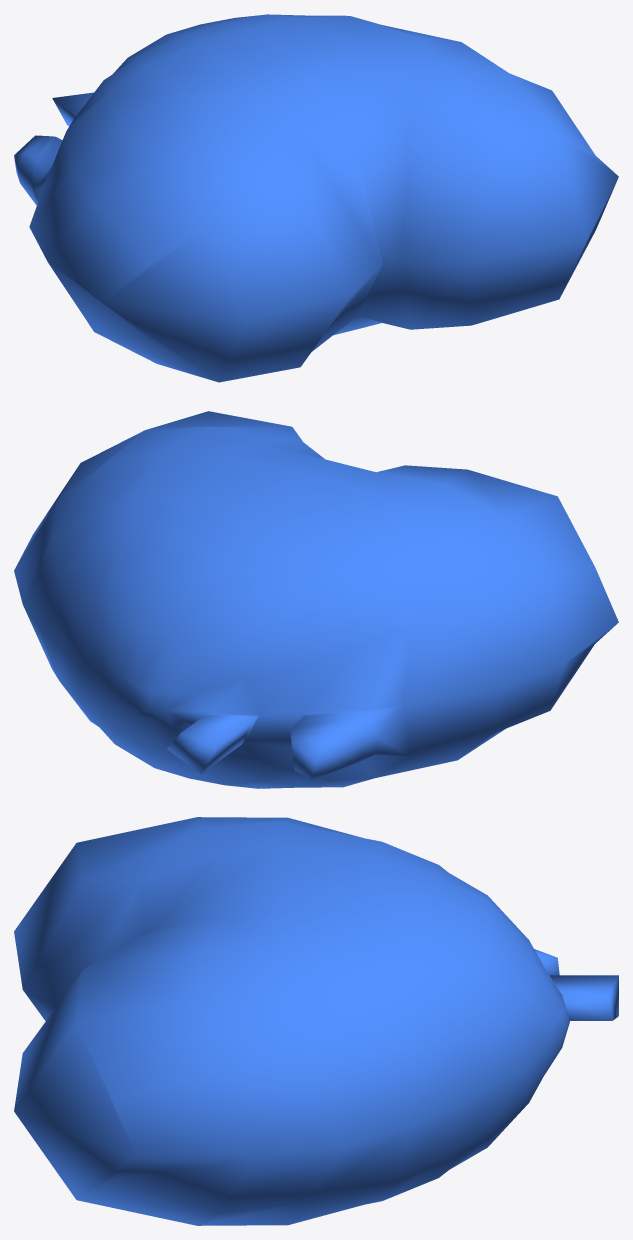
Rendered from Heart.glb.
3 views of the same model, one above another, from view 1: azimuth 30°, elevation 25°; view 2: azimuth 150°, elevation 25°; view 3: azimuth 270°, elevation 25° (orthographic). The views are drawn at different scales.
Parts seen in each view (by area): view 1: Cube; view 2: Cube; view 3: Cube.
Boxes of the visible parts, x1=… form: Cube: x1=14, y1=14, x2=618, y2=382; Cube: x1=14, y1=411, x2=618, y2=788; Cube: x1=14, y1=817, x2=618, y2=1225.
Bounding box in the file's own units: 2.23 × 1.11 × 2.08.
